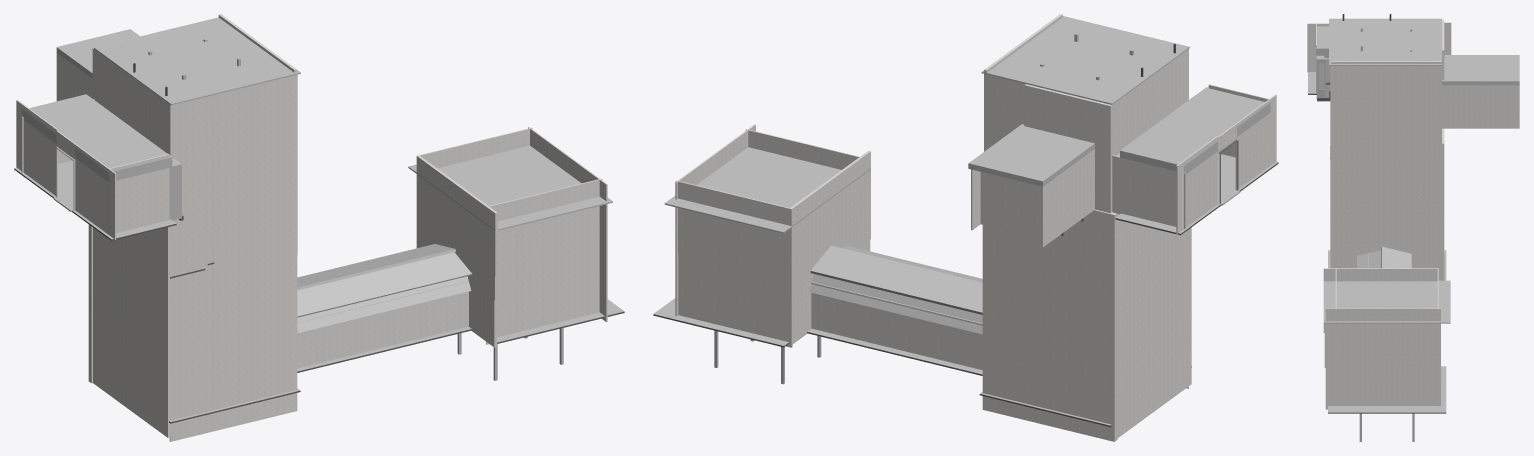
Rendered from scp_room_895.dae.
3 renders of one model, left to right at view 1: azimuth 30°, elevation 25°; view 2: azimuth 150°, elevation 25°; view 3: azimuth 270°, elevation 25°, orthographic. The views are drawn at different scales.
Visible parts, largest first — view 1: SCP 895 Containment Chamber.007, SCP 895 Containment Chamber.002, SCP 895 Containment Chamber.006, SCP 895 Containment Chamber.005, SCP 895 Containment Chamber.017; view 2: SCP 895 Containment Chamber.007, SCP 895 Containment Chamber.002, SCP 895 Containment Chamber.006, SCP 895 Containment Chamber.005; view 3: SCP 895 Containment Chamber.007, SCP 895 Containment Chamber.002, SCP 895 Containment Chamber.006, SCP 895 Containment Chamber.017, SCP 895 Containment Chamber.005.
Boxes of the visible parts, box(x1,y1,x2,y2) form: SCP 895 Containment Chamber.007: box(16, 14, 607, 441); SCP 895 Containment Chamber.002: box(22, 17, 612, 380); SCP 895 Containment Chamber.006: box(14, 160, 624, 421); SCP 895 Containment Chamber.005: box(14, 148, 624, 423); SCP 895 Containment Chamber.017: box(169, 158, 181, 220); SCP 895 Containment Chamber.007: box(675, 14, 1276, 441); SCP 895 Containment Chamber.002: box(664, 16, 1270, 384); SCP 895 Containment Chamber.006: box(653, 153, 1278, 425); SCP 895 Containment Chamber.005: box(653, 140, 1278, 426); SCP 895 Containment Chamber.007: box(1307, 19, 1519, 409); SCP 895 Containment Chamber.002: box(1316, 18, 1519, 441); SCP 895 Containment Chamber.006: box(1308, 72, 1446, 412); SCP 895 Containment Chamber.017: box(1316, 55, 1330, 98); SCP 895 Containment Chamber.005: box(1308, 82, 1446, 413).
Bounding box in the file's own units: 81.41 × 38.8 × 56.73.
